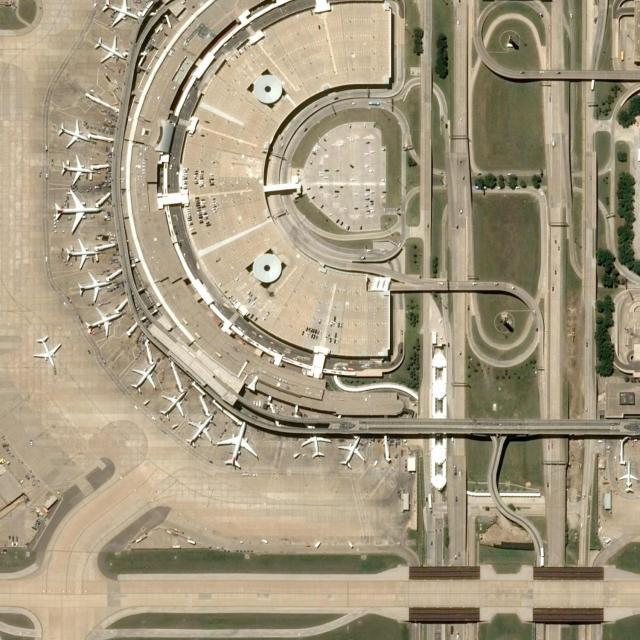Aircraft: (53, 192, 105, 236), (217, 426, 259, 474), (53, 153, 101, 188), (81, 307, 128, 341), (181, 410, 219, 448), (90, 35, 134, 67), (73, 271, 116, 303), (337, 435, 371, 475), (61, 239, 106, 269), (130, 359, 164, 394), (56, 121, 96, 150), (100, 0, 142, 26), (160, 388, 192, 419), (36, 334, 62, 372), (300, 435, 333, 463), (618, 466, 640, 498)
